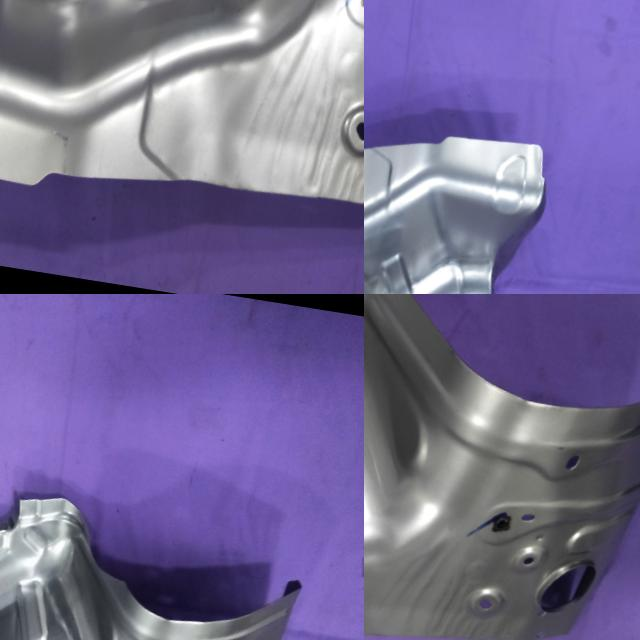Defect: (56, 506, 140, 596)
Healthy: (364, 294, 640, 640), (0, 0, 364, 248)
